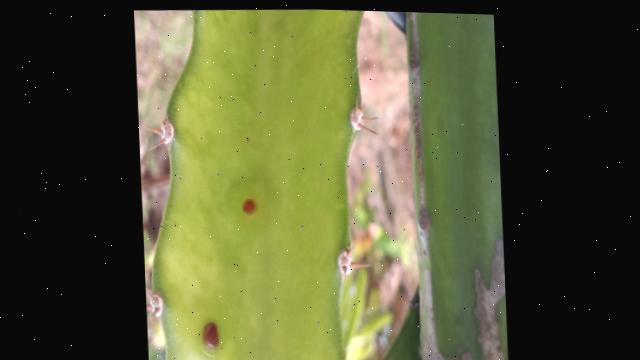stemcanker: (193, 316, 229, 354), (236, 192, 263, 221)
